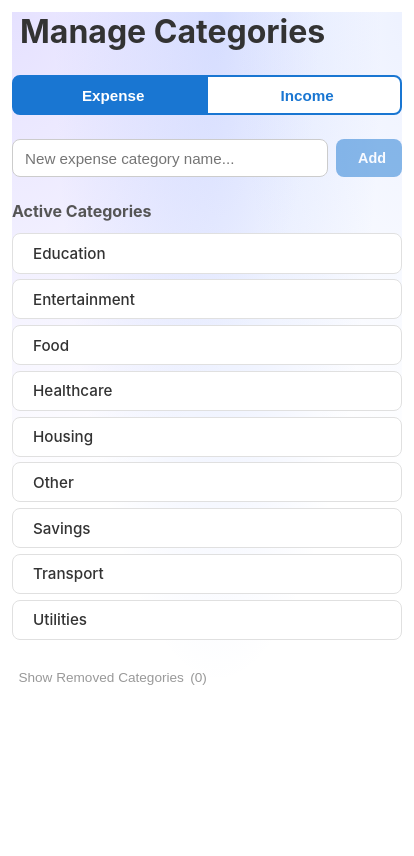
Scenario: CategoriesView › switches to income tab
Step 1. Click the button "Income" → {"x": 304, "y": 95}, box [207,75,402,115]
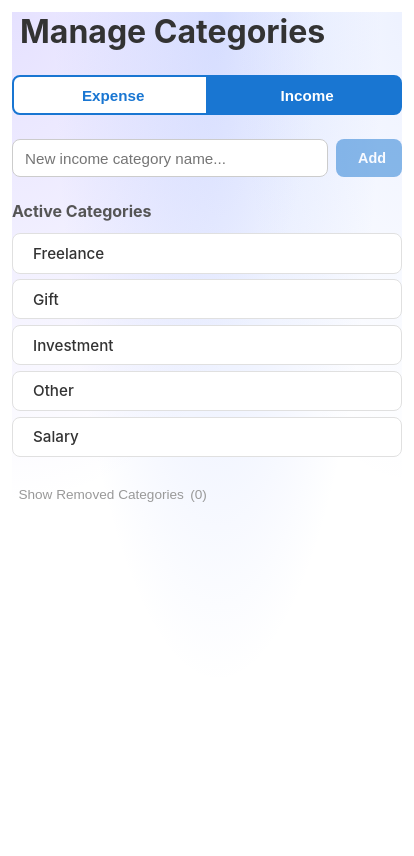
Expected: the text "Salary" is shown, [25,427,79,446]
